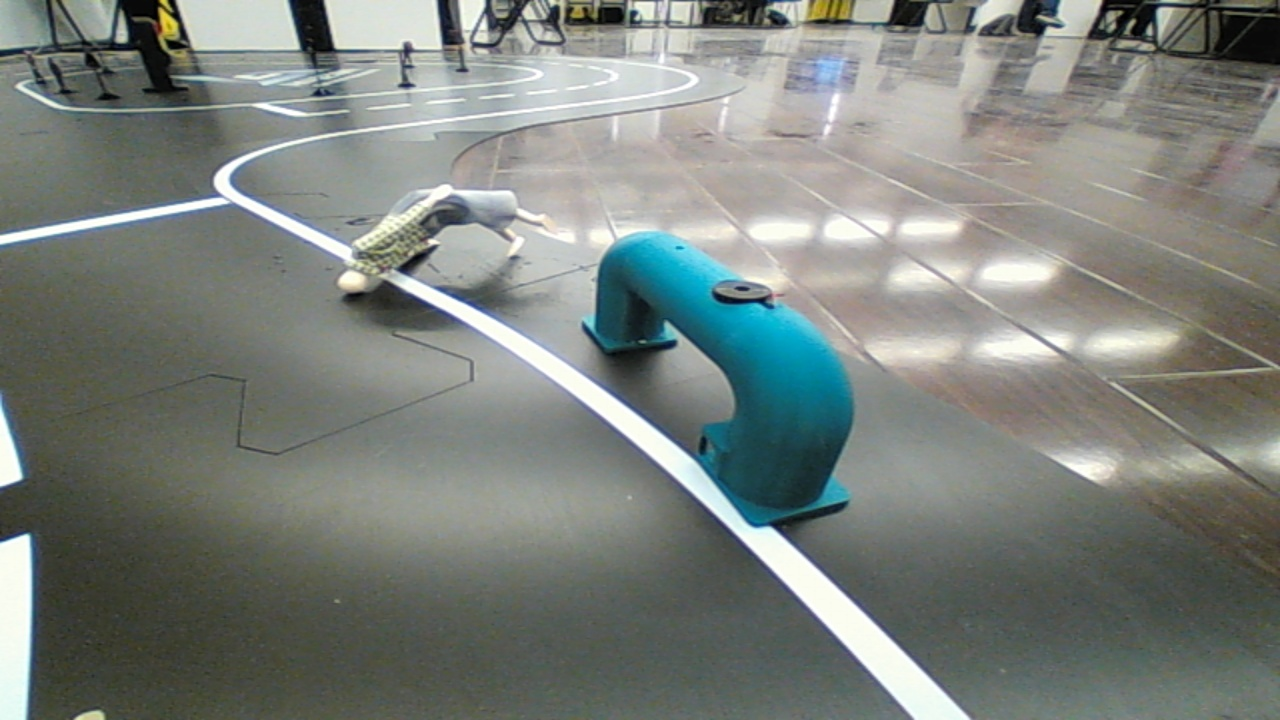Pedestrian crossing: (591, 202, 857, 522)
Road works: (315, 174, 576, 303)
